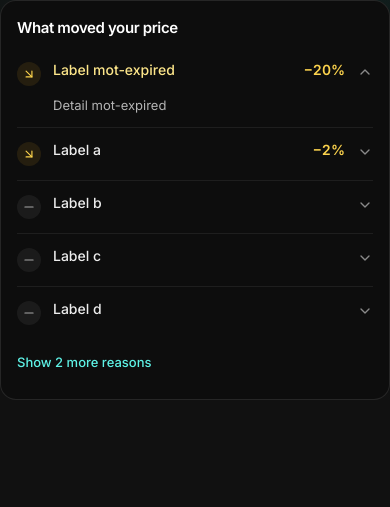
Scenario: PriceMovers expandable › shows five reasons, expands the rest, and reveals each detail on tap
Expected: the text "Detail mot-expired" is shown, top-left (53, 96), bottom-right (166, 112)
Expected: the text "Detail a" is not shown
Click the button "Show 2 more reasons" at x=84, y=363, box top-left (17, 343), bottom-right (152, 383)
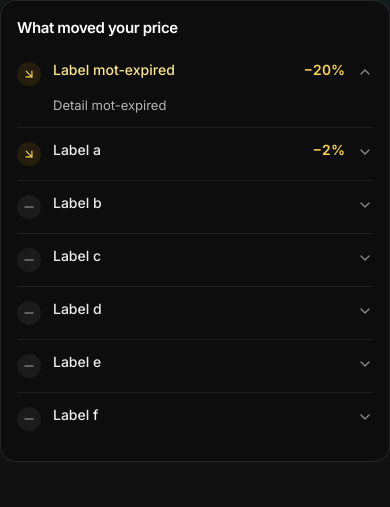
Result: the text "Label f" is shown at top-left (53, 405), bottom-right (98, 425)
Click the button "Label a −2%" at x=77, y=150, box top-left (17, 132), bottom-right (373, 176)
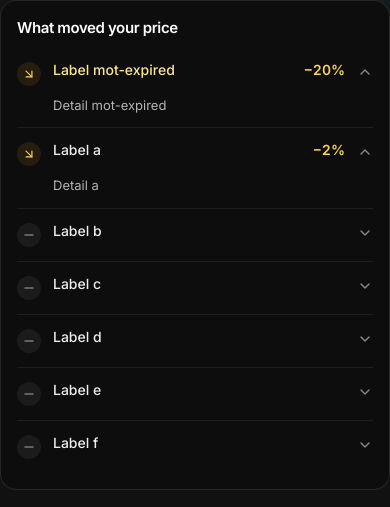
Result: the button "Label a −2%" is expanded at top-left (17, 132), bottom-right (373, 176)
Result: the text "Detail a" is shown at top-left (53, 177), bottom-right (99, 193)
